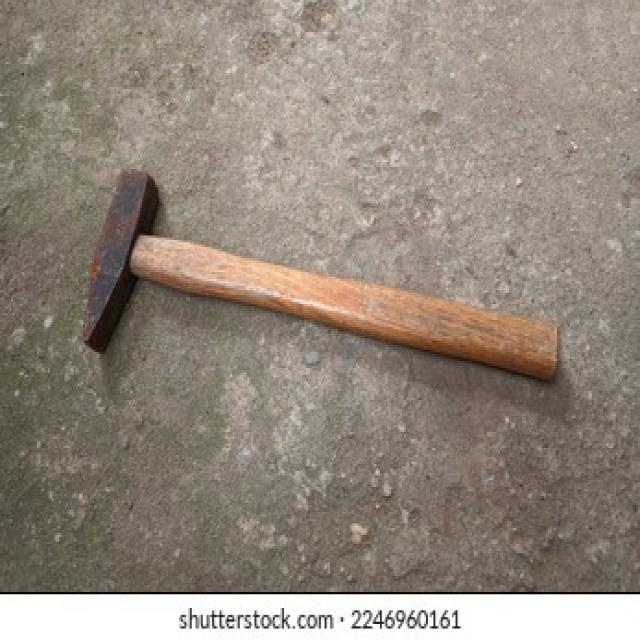hammer: (61, 148, 572, 426)
